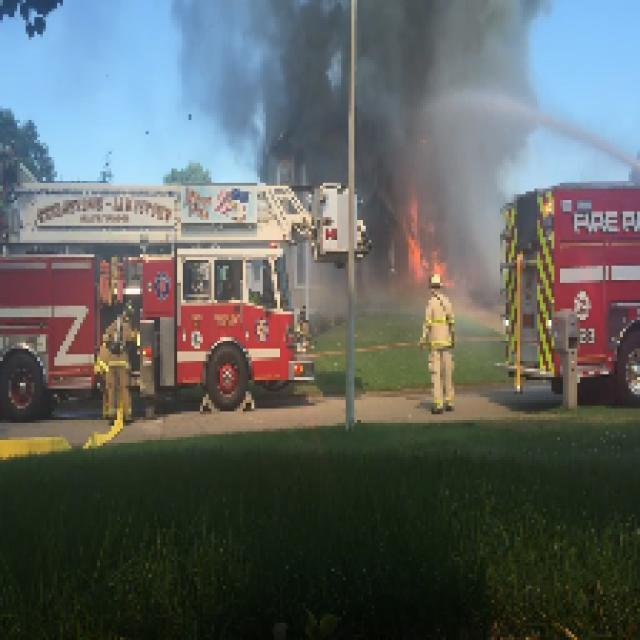Fire: (391, 188, 446, 288)
Smoke: (171, 3, 546, 300)
